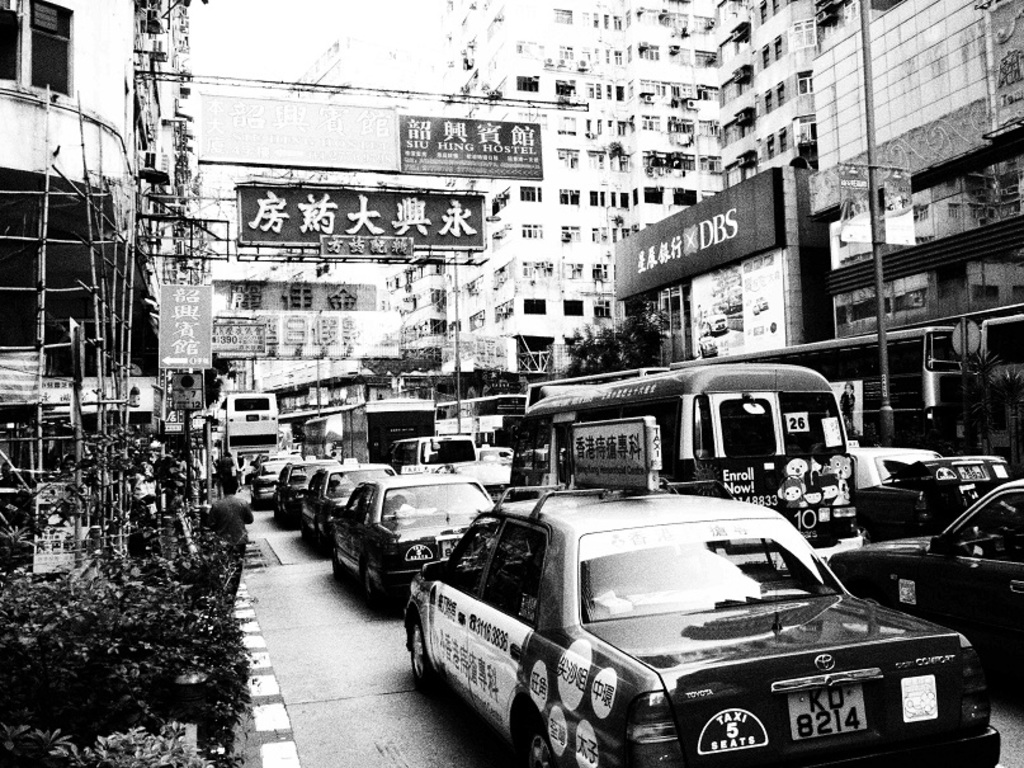Car: (253, 459, 993, 766), (840, 479, 1022, 684)
